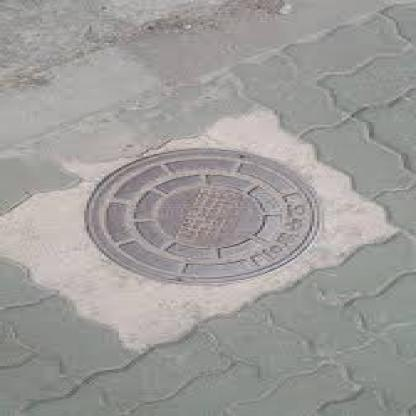manholes: (67, 136, 327, 298)
